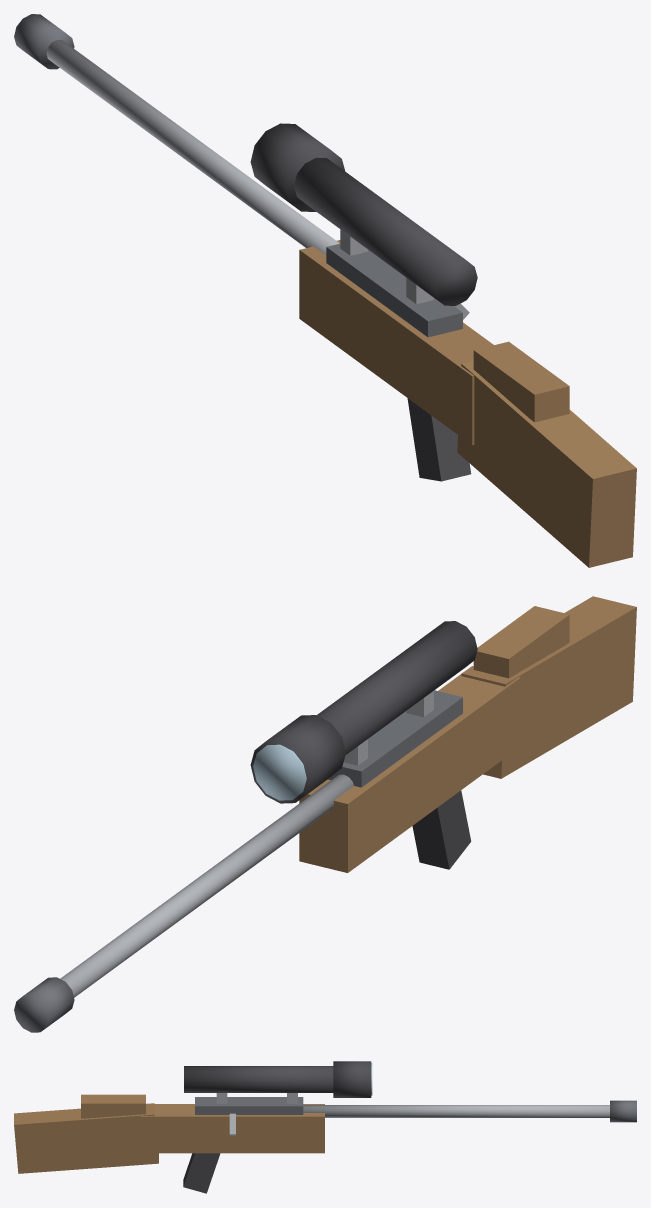
Rendered from sniper_held.gltf.
The picture shows the model from 3 angles, top to bottom: view 1: azimuth 30°, elevation 25°; view 2: azimuth 150°, elevation 25°; view 3: azimuth 270°, elevation 25°; orthographic projection. The views are drawn at different scales.
Parts seen in each view (by area): view 1: sniper_held; view 2: sniper_held; view 3: sniper_held.
Part boxes in pixels (bbox=[...]): sniper_held: bbox=[14, 14, 636, 567]; sniper_held: bbox=[14, 596, 636, 1032]; sniper_held: bbox=[14, 1061, 636, 1193].
Size of the model in its own units: 0.0986 by 0.2584 by 1.15.
